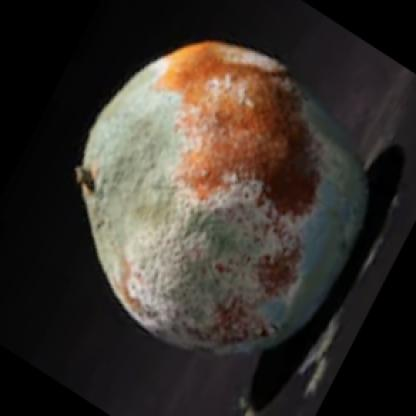rotten: (82, 42, 369, 355)
